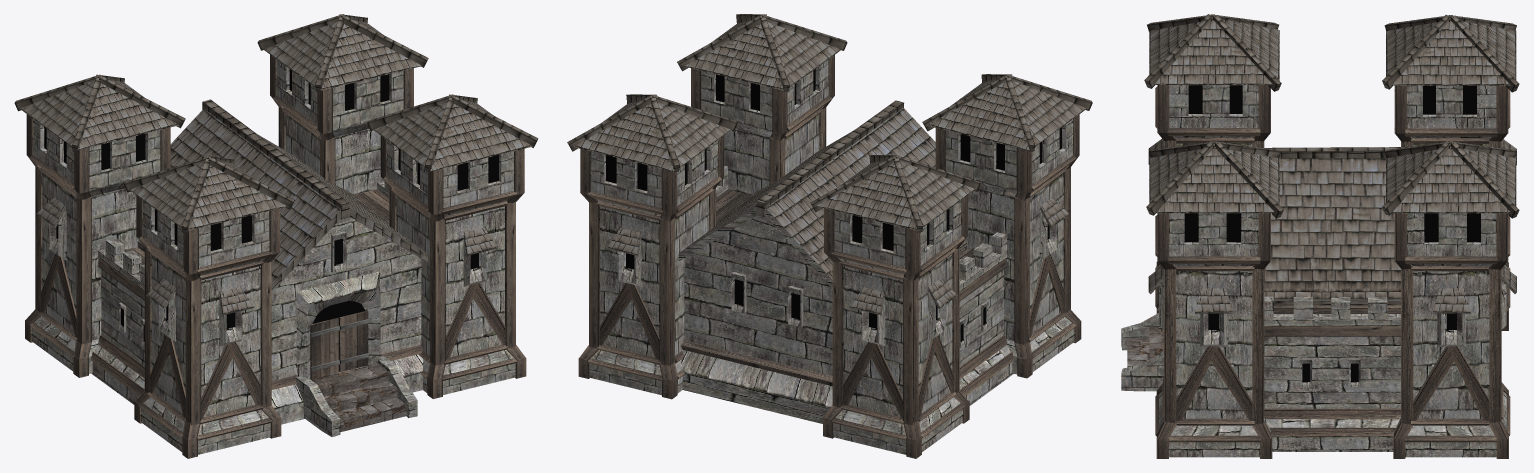
File: humanbarracks.fbx
3 views of the same model, side by side, from view 1: azimuth 30°, elevation 25°; view 2: azimuth 150°, elevation 25°; view 3: azimuth 270°, elevation 25° (orthographic). The views are drawn at different scales.
Parts seen in each view (by area): view 1: Kostka.098; view 2: Kostka.098; view 3: Kostka.098.
Boxes of the visible parts, left/top/right/bottom form: Kostka.098: left=14, top=14, right=538, bottom=458; Kostka.098: left=567, top=14, right=1092, bottom=458; Kostka.098: left=1121, top=14, right=1519, bottom=458.
Bounding box in the file's own units: 4587 × 3355 × 4127.
Materials: 7 (6 with a texture image).
